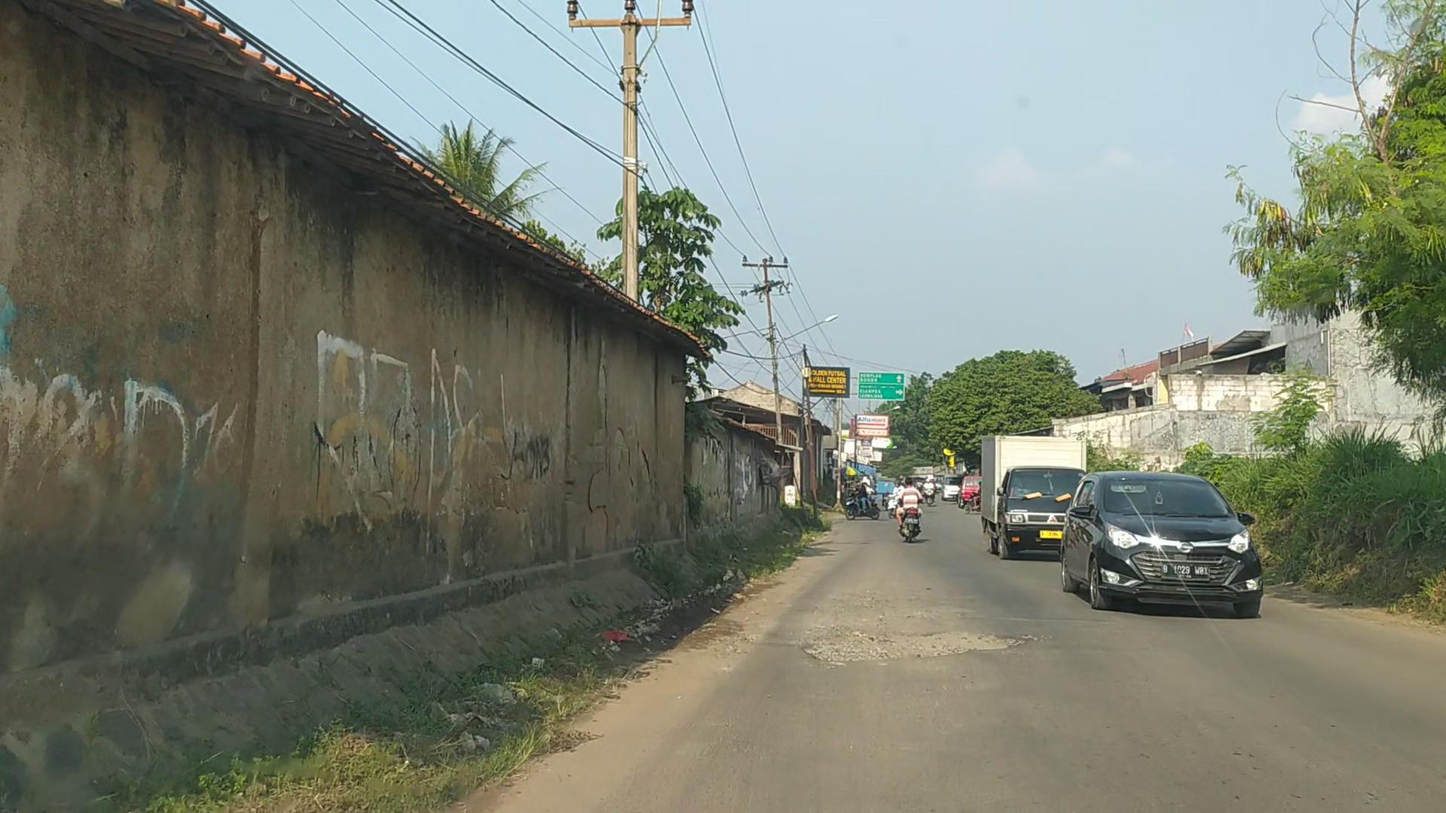pothole: (804, 624, 1026, 663)
